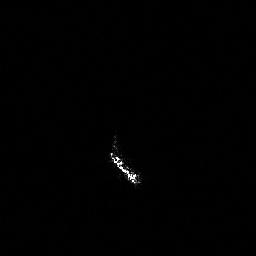ship: (110, 151, 139, 184)
